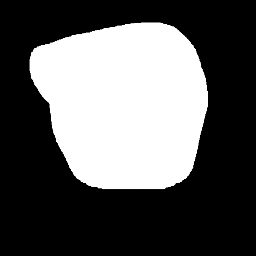mass: (30, 22, 208, 186)
